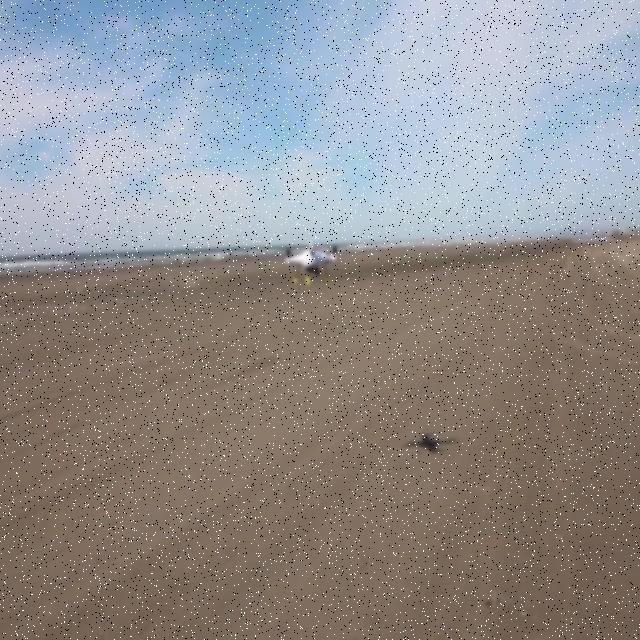UAV: (286, 241, 340, 286)
